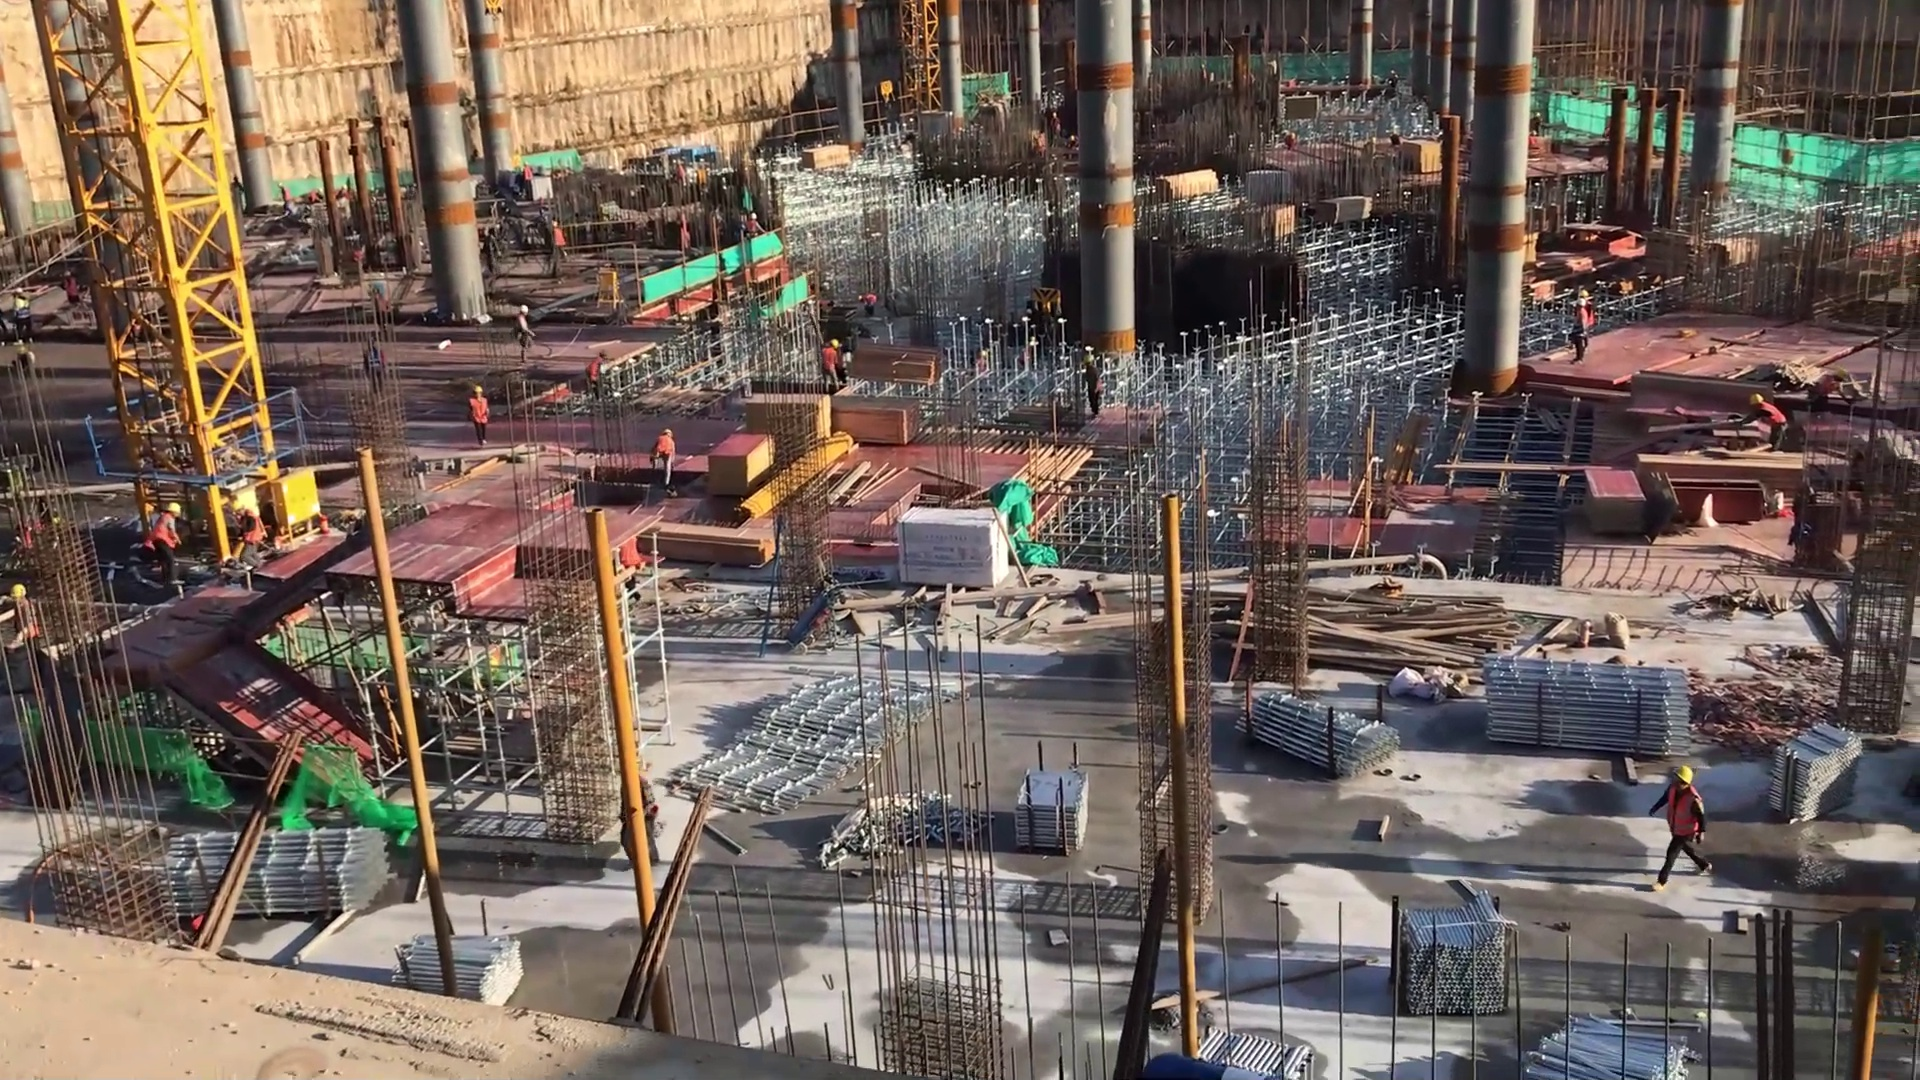board: (706, 430, 775, 502), (1586, 470, 1651, 539)
ebox: (276, 459, 330, 548), (587, 263, 630, 321)
helmet: (1671, 761, 1698, 789), (1746, 389, 1767, 414), (9, 582, 29, 607), (163, 501, 182, 519), (1080, 352, 1100, 369), (660, 427, 676, 442), (1832, 367, 1848, 381), (517, 300, 532, 315), (231, 502, 247, 516), (1579, 288, 1591, 302), (550, 218, 562, 233), (13, 285, 27, 298), (827, 339, 840, 352), (598, 348, 611, 360), (748, 212, 761, 224), (856, 293, 866, 303), (63, 269, 75, 278), (474, 384, 482, 393)
hook: (873, 77, 904, 110), (481, 1, 517, 20)
person: (1652, 759, 1715, 892), (146, 502, 190, 601), (1732, 388, 1792, 448), (1805, 364, 1863, 420), (230, 501, 264, 575), (1398, 131, 1445, 177), (648, 426, 681, 491), (8, 583, 37, 650), (467, 384, 495, 447), (1080, 353, 1104, 423), (584, 349, 613, 404), (12, 285, 37, 347), (818, 335, 843, 393), (1569, 298, 1589, 369), (1579, 288, 1599, 351), (515, 302, 538, 359), (548, 218, 570, 261), (64, 264, 80, 316), (520, 161, 538, 205), (740, 211, 764, 243), (858, 289, 876, 321)
scaffold: (162, 813, 411, 938), (1488, 649, 1711, 764), (1402, 884, 1536, 1026), (1250, 689, 1394, 782), (1536, 1010, 1683, 1080), (1779, 716, 1862, 838), (1202, 1014, 1330, 1080)
vest: (1665, 784, 1704, 838), (154, 510, 182, 550), (242, 514, 269, 549), (1758, 401, 1787, 430), (651, 435, 679, 463), (468, 397, 491, 430), (12, 295, 32, 326), (586, 357, 603, 385), (821, 349, 839, 374)
wood: (1642, 450, 1810, 502), (635, 528, 775, 563), (793, 137, 859, 188)
